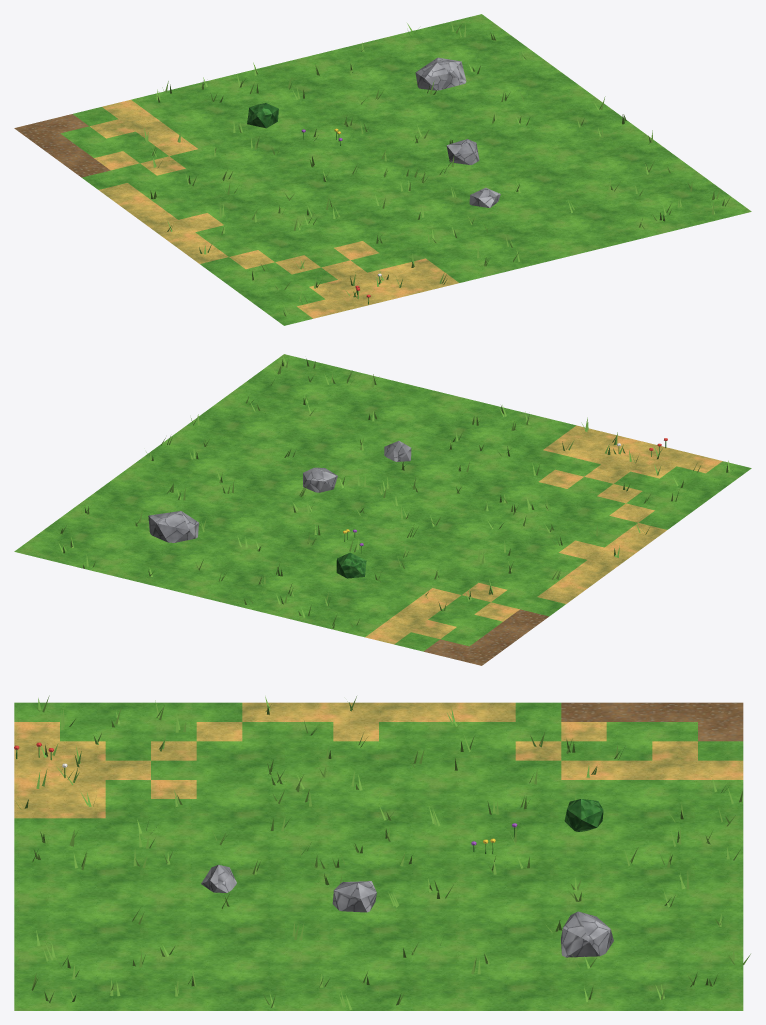
The model's file is chunk_2_13.glb.
3 views of the same model, one above another, from view 1: azimuth 30°, elevation 25°; view 2: azimuth 150°, elevation 25°; view 3: azimuth 270°, elevation 25° (orthographic). The views are drawn at different scales.
Parts seen in each view (by area): view 1: chunk_2_13; view 2: chunk_2_13; view 3: chunk_2_13.
Boxes of the visible parts, box(x1,y1,x2,y2) form: chunk_2_13: box(14, 14, 751, 325); chunk_2_13: box(14, 354, 751, 665); chunk_2_13: box(14, 695, 750, 1010).
Size of the model in its own units: 16 by 1.19 by 16.2.
11 materials, 6 textured.
